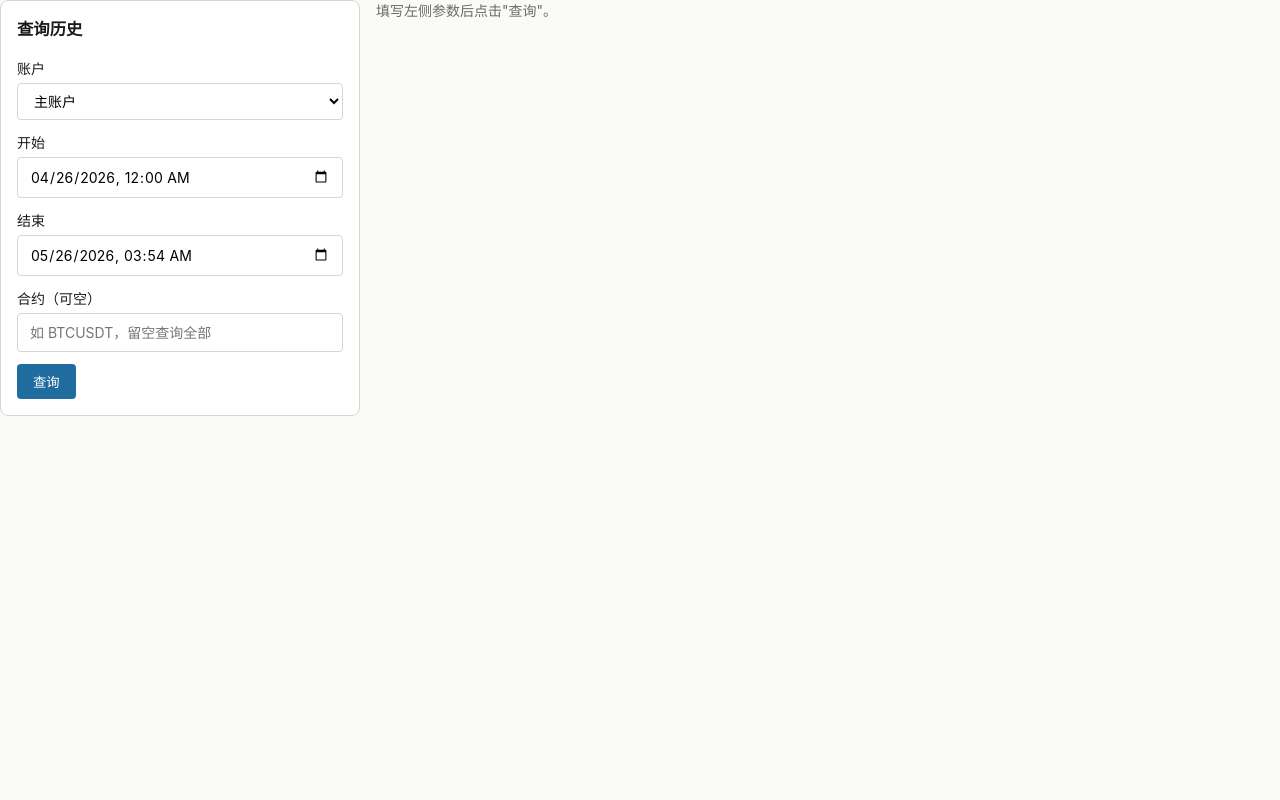
HistoryPage › submits POST /history with account_name and polls /history/result/{id} until done
Expected: the dropdown labelled "账户" shows "主账户", [17, 83, 343, 120]
Note: fill start/end
Replace the text in the field labelled "开始" with "2026-01-01T00:00" at (180, 177), box [17, 157, 343, 198]
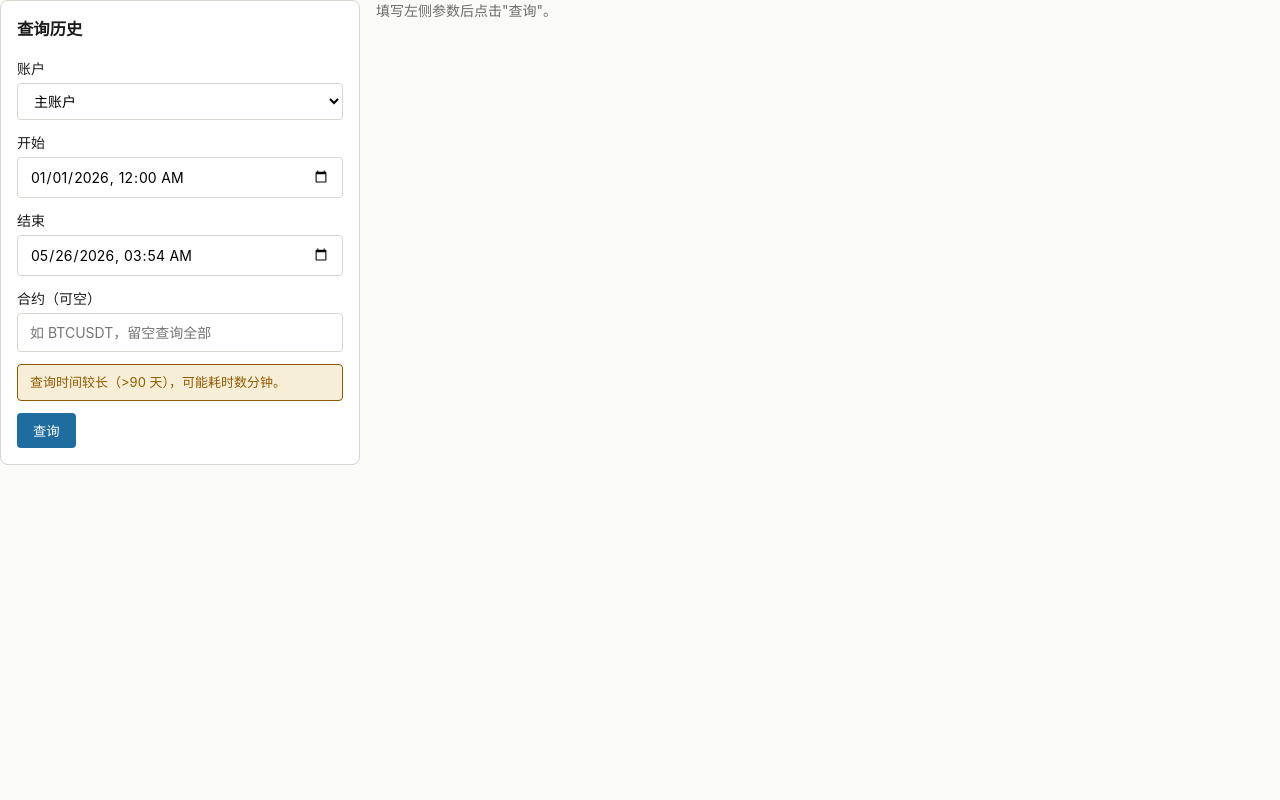
Replace the text in the field labelled "结束" with "2026-02-01T00:00" at (180, 255), box [17, 235, 343, 276]
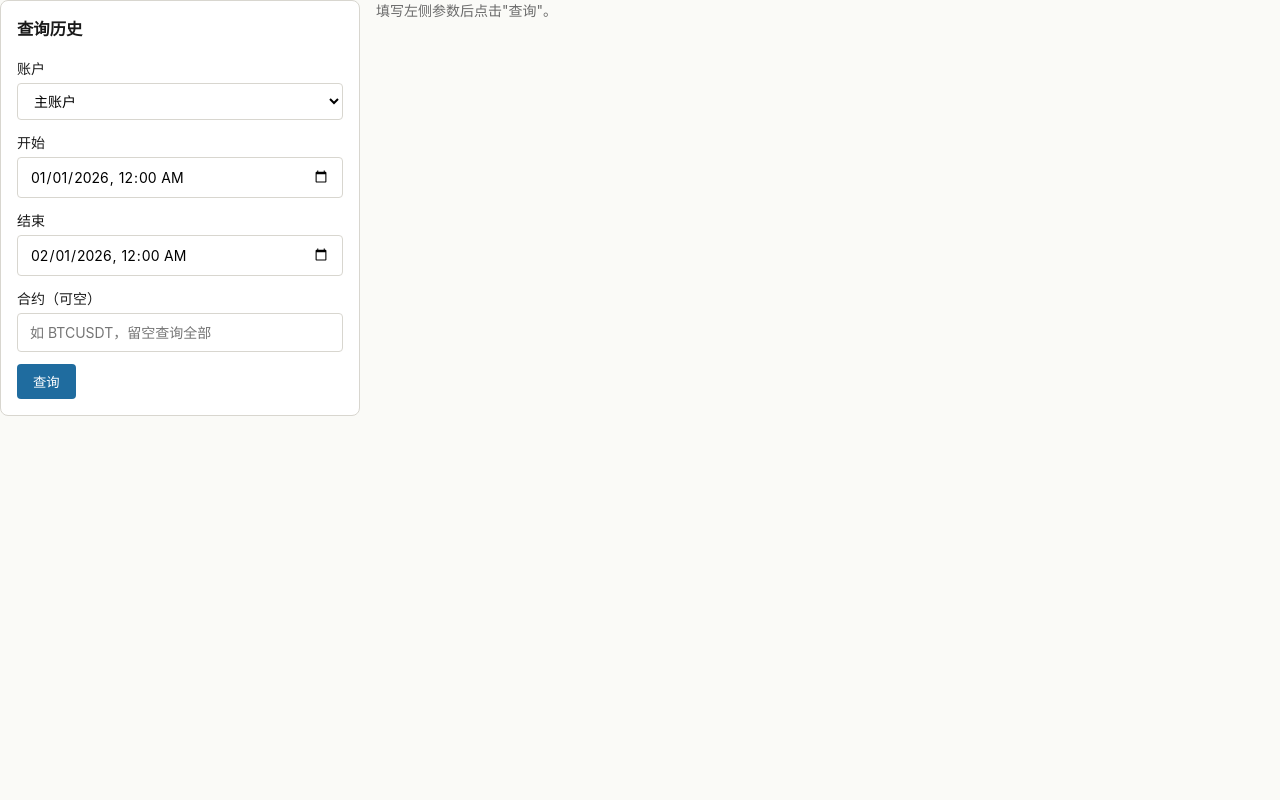
Click the button "查询" at (46, 381), box [17, 364, 76, 399]
Wait 10000 ms
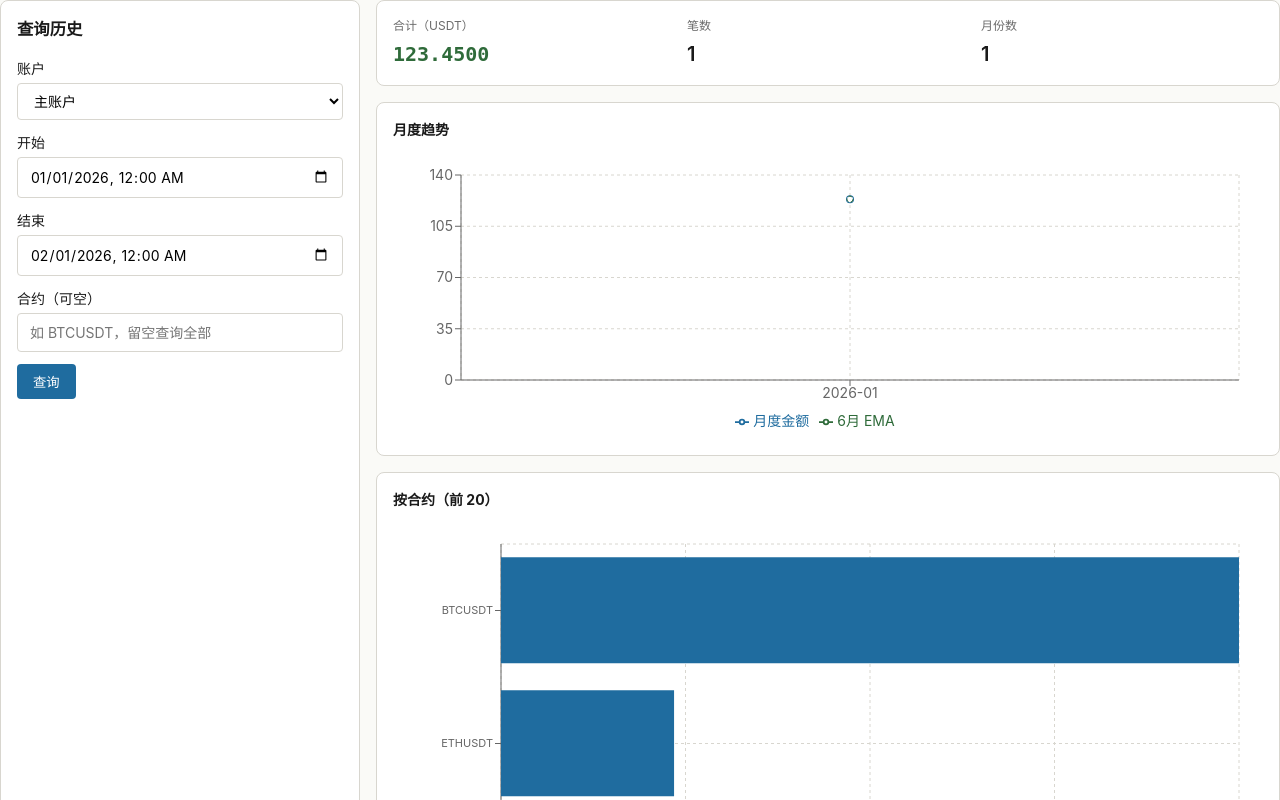
Expected: the text "123.4500" is shown, [393, 42, 489, 66]
Expected: the heading "月度趋势" is shown, [393, 121, 449, 138]
Expected: the heading "按合约（前 20）" is shown, [393, 491, 499, 508]
